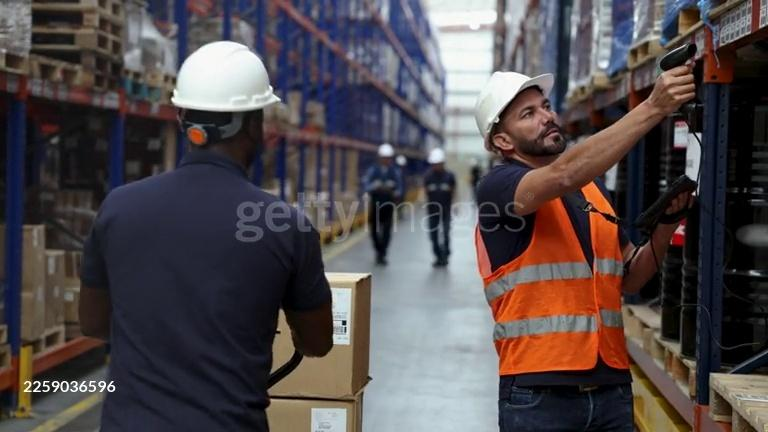helmet: (171, 40, 281, 113), (474, 69, 556, 151), (427, 148, 445, 164), (379, 145, 395, 158)
person: (77, 40, 333, 432), (474, 62, 698, 432), (360, 144, 408, 267), (413, 148, 457, 269)
